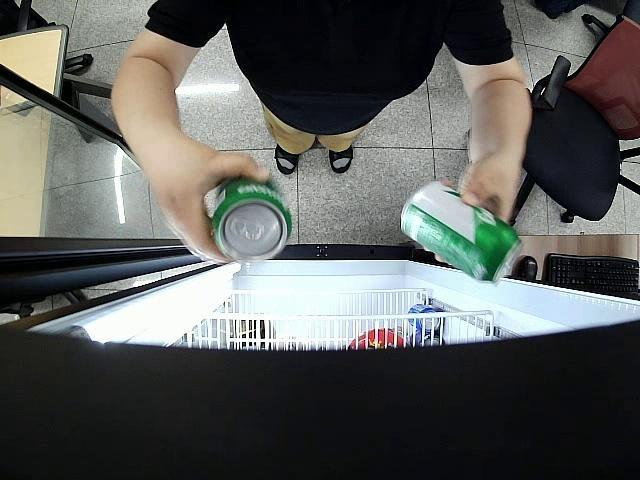12_chilsungCider: (400, 182, 524, 284), (209, 176, 292, 262)
